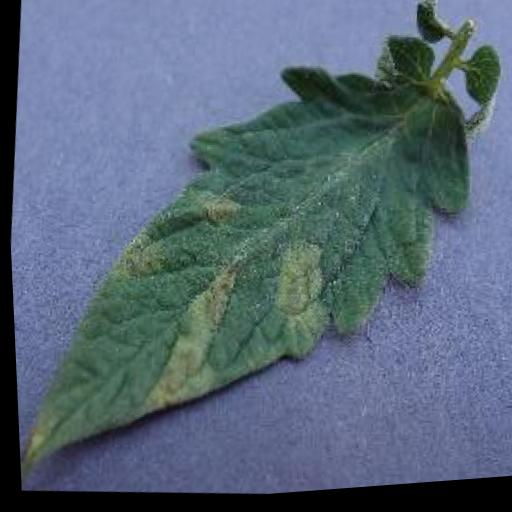Leaf Mold: (1, 4, 495, 505)
